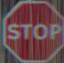Stop: (5, 2, 60, 58)
